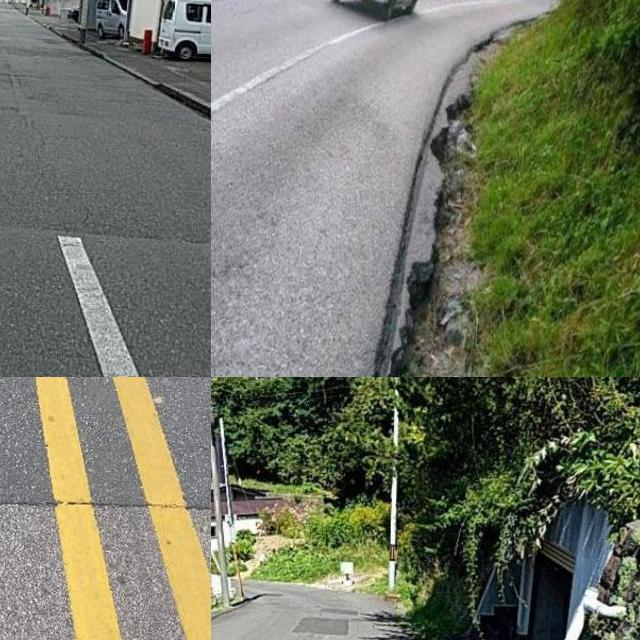Pinggir: (351, 32, 507, 377)
Sambungan: (0, 377, 211, 525)
